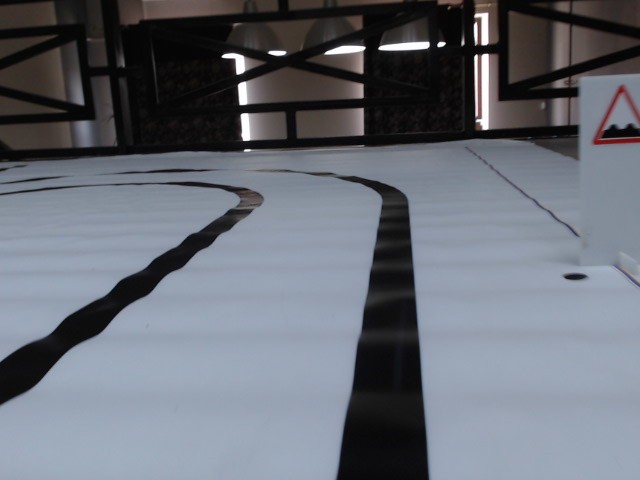Nerov: (589, 82, 640, 147)
